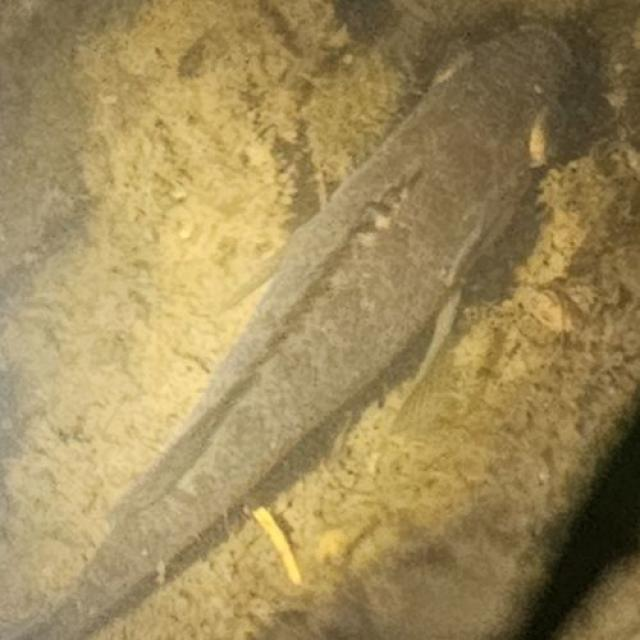Gunes Levregi: (11, 21, 578, 640)
